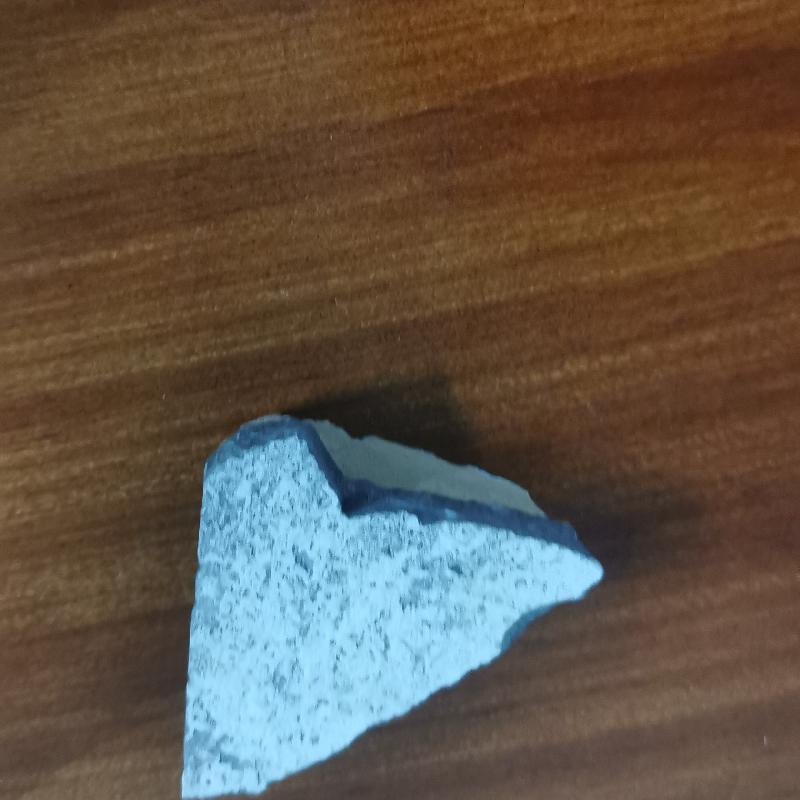tile: (162, 405, 612, 800)
